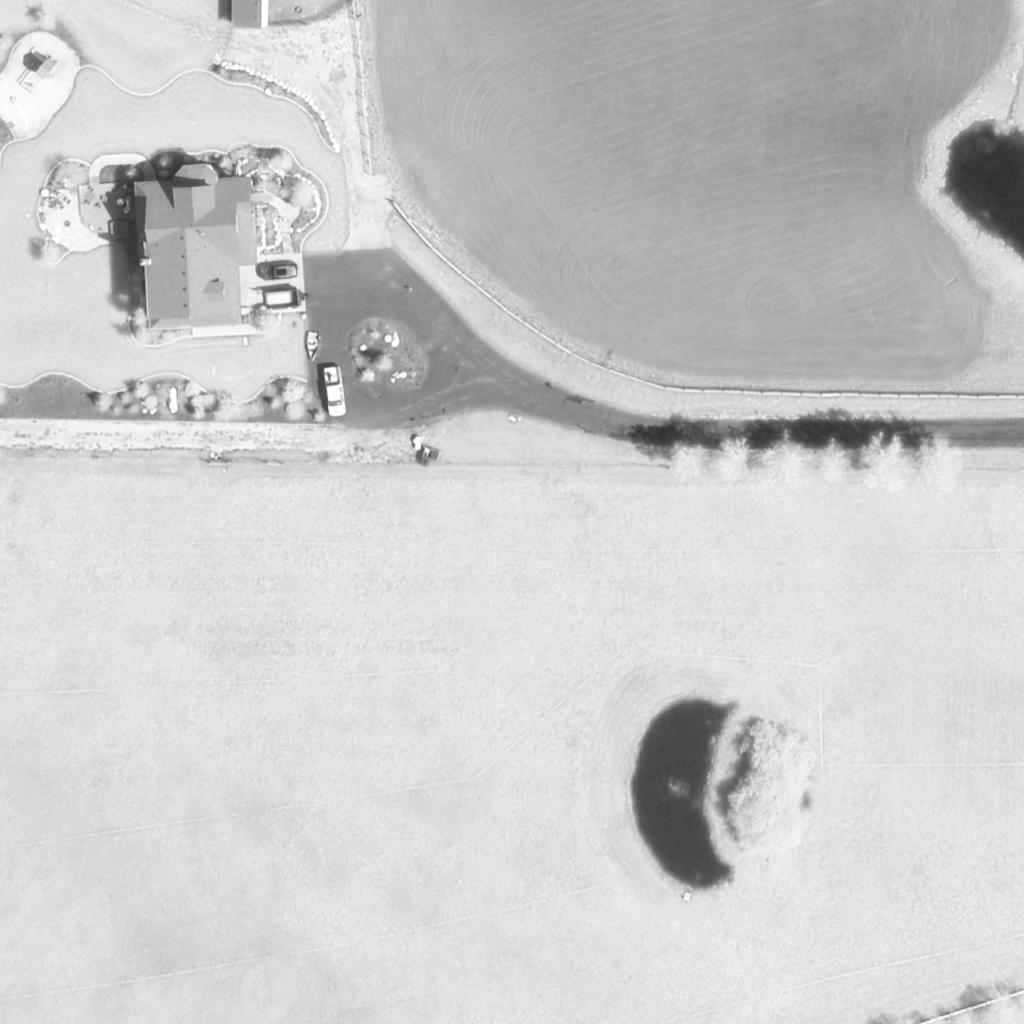vehicle: (321, 367, 349, 417), (255, 262, 299, 280)
